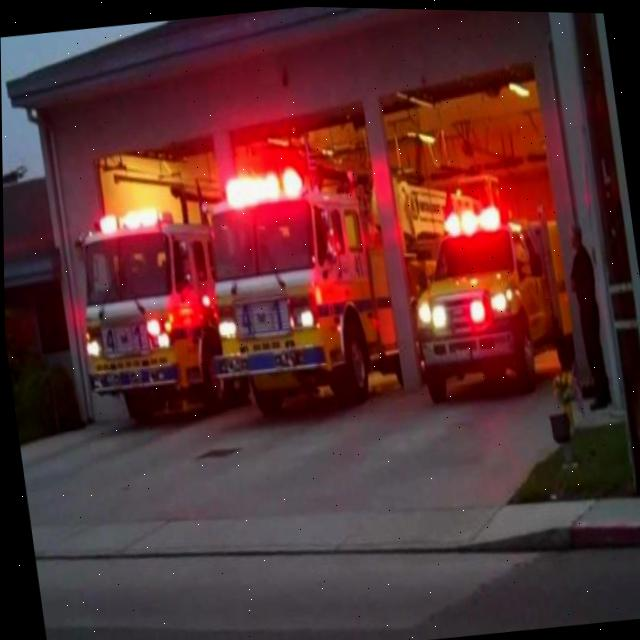emergency: (184, 140, 509, 430), (65, 195, 255, 430), (395, 190, 582, 410)
